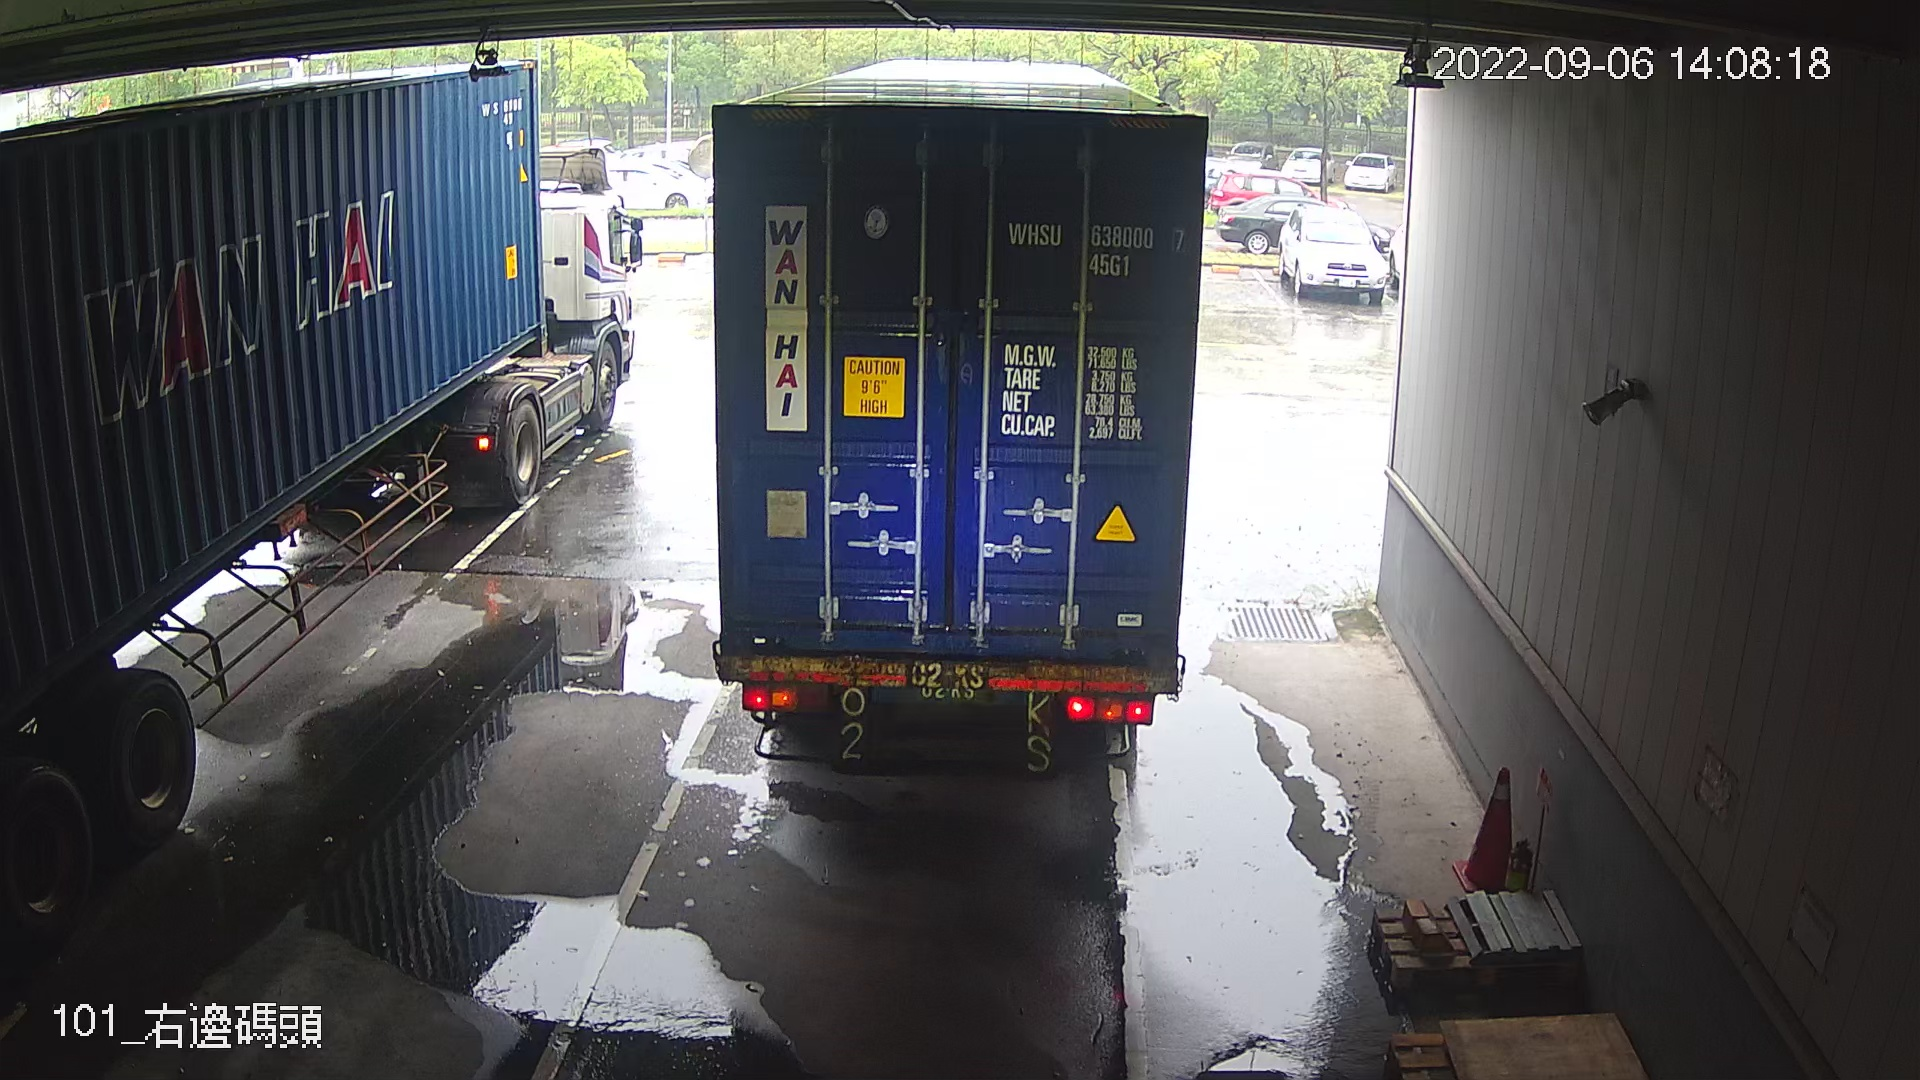container: (998, 212, 1192, 284)
